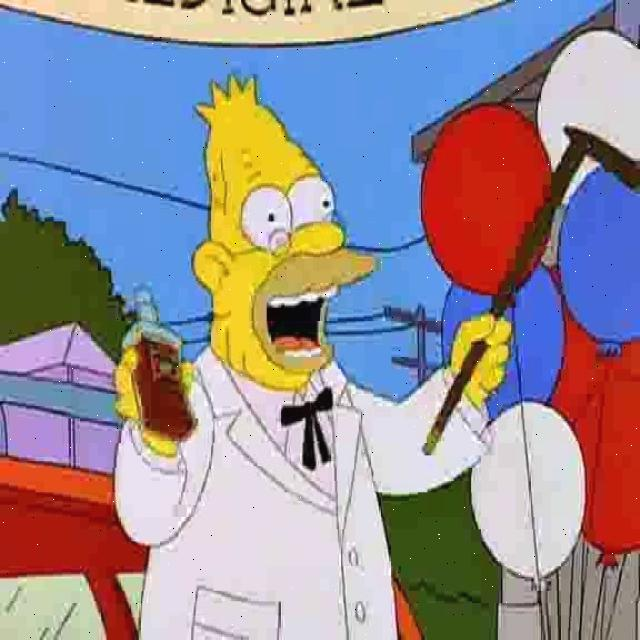Abraham Grampa Simpson: (190, 74, 379, 394)
